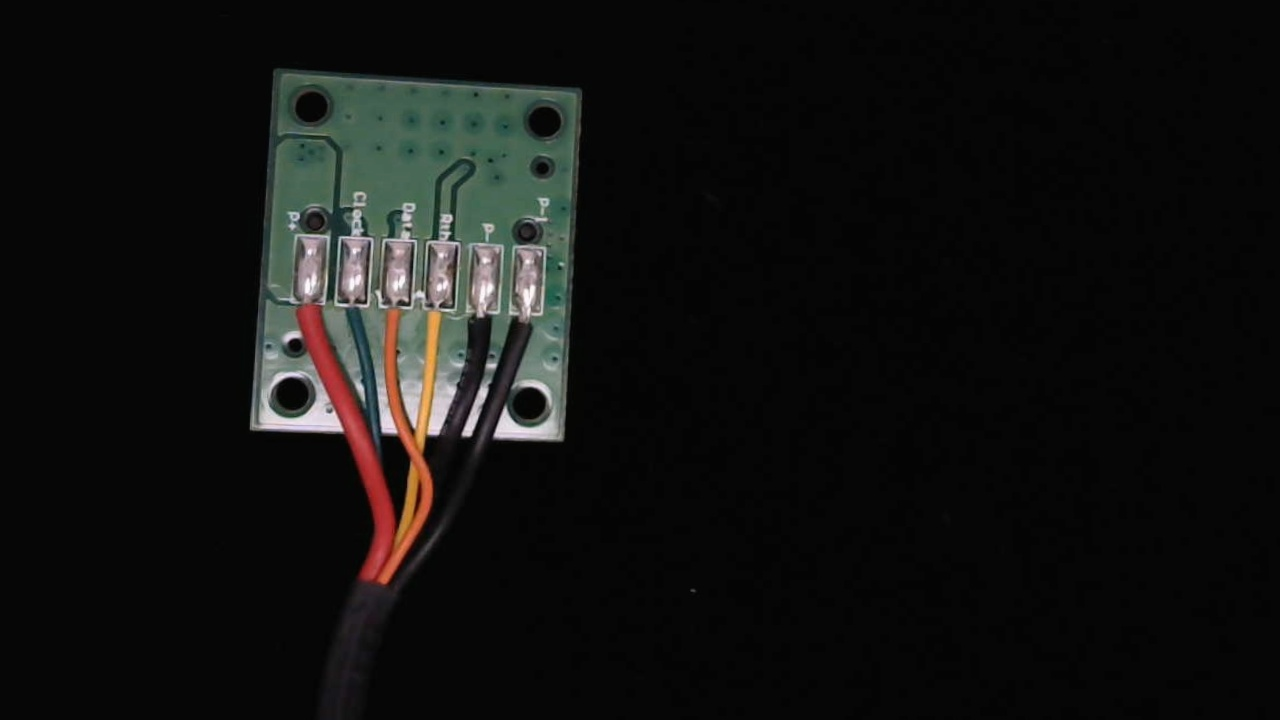Black: (461, 297, 501, 361)
Black1: (509, 295, 545, 351)
Green: (333, 292, 371, 346)
Orange: (379, 291, 412, 363)
Red: (291, 290, 327, 354)
Yellow: (416, 290, 452, 368)
